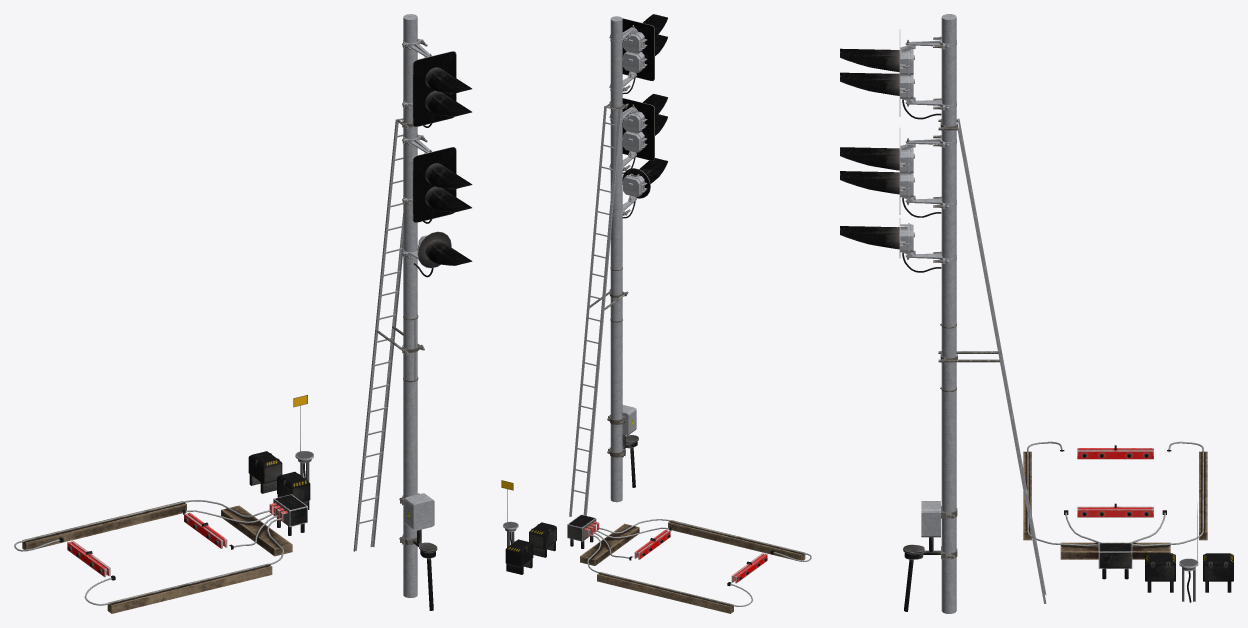
The model's file is RM_sig_P_MM1_YG+RY+W_2+2+1_entr.gltf.
3 views of the same model, side by side, from view 1: azimuth 30°, elevation 25°; view 2: azimuth 150°, elevation 25°; view 3: azimuth 270°, elevation 25° (orthographic). The views are drawn at different scales.
Parts seen in each view (by area): view 1: Светофор 2+2+1, Изостык; view 2: Светофор 2+2+1, Изостык; view 3: Светофор 2+2+1, Изостык.
Part boxes in pixels (x1,y1,x2,y2): Светофор 2+2+1: (353,14,472,610); Изостык: (14,395,313,613); Светофор 2+2+1: (569,14,668,516); Изостык: (501,480,811,613); Светофор 2+2+1: (840,14,1046,613); Изостык: (1023,441,1233,602).
Size of the model in its own units: 4.1 by 7.57 by 4.55.
Materials: 2 (2 with a texture image).
